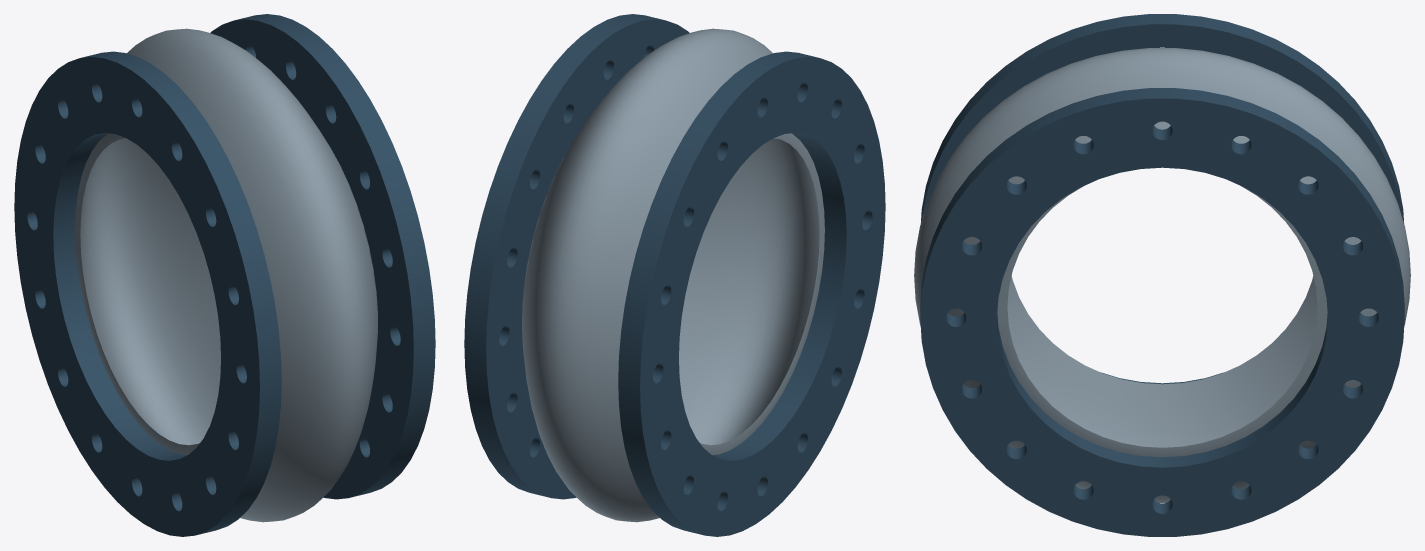
The picture shows the model from 3 angles, left to right: view 1: azimuth 30°, elevation 25°; view 2: azimuth 150°, elevation 25°; view 3: azimuth 270°, elevation 25°; orthographic projection.
Parts seen in each view (by area): view 1: rebro_vstavka_rezina, homut_flanec_1, homut_flanec_2; view 2: rebro_vstavka_rezina, homut_flanec_1, homut_flanec_2; view 3: homut_flanec_2, rebro_vstavka_rezina, homut_flanec_1.
Boxes of the visible parts, x1,y1,x2,y2 form: rebro_vstavka_rezina: [75, 28, 377, 522]; homut_flanec_1: [14, 51, 281, 536]; homut_flanec_2: [210, 14, 435, 499]; rebro_vstavka_rezina: [522, 28, 824, 522]; homut_flanec_1: [618, 51, 885, 536]; homut_flanec_2: [464, 14, 689, 499]; homut_flanec_2: [920, 88, 1404, 536]; rebro_vstavka_rezina: [914, 48, 1410, 502]; homut_flanec_1: [920, 14, 1404, 384].
Size of the model in its own units: 255 by 633 by 633.
